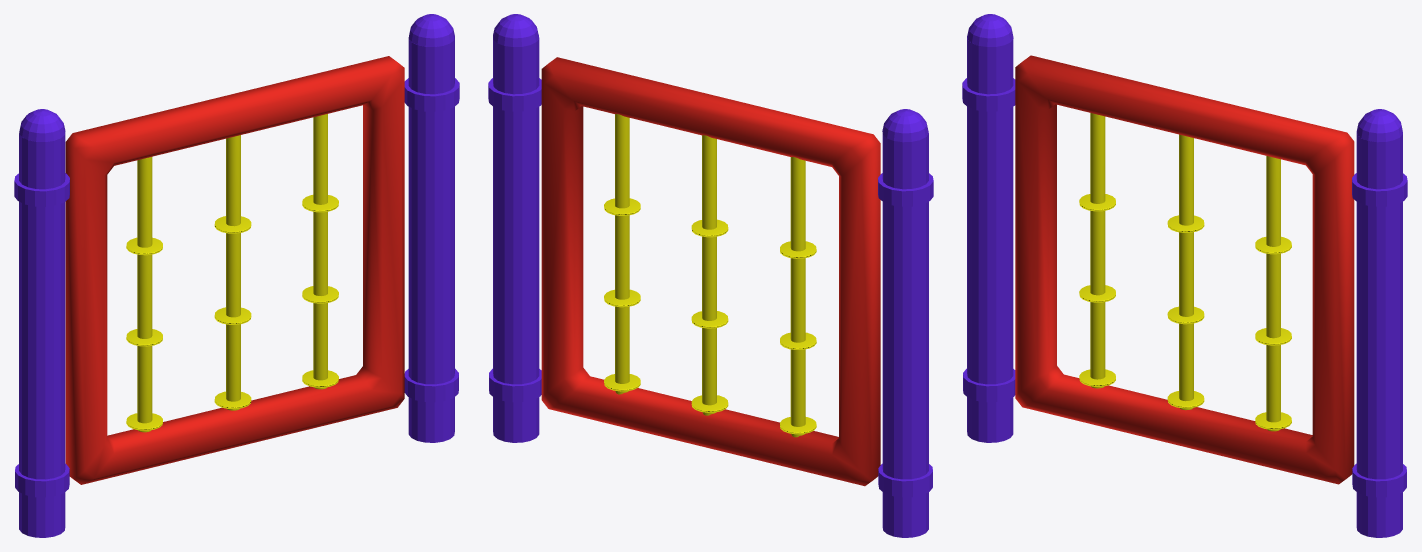
File: PPTicTacToePanel.fbx
3 renders of one model, left to right at view 1: azimuth 30°, elevation 25°; view 2: azimuth 150°, elevation 25°; view 3: azimuth 330°, elevation 25°, orthographic.
Parts seen in each view (by area): view 1: Plane, Cylinder.001, Cylinder, Cylinder.005, Cylinder.002, Cylinder.004; view 2: Plane, Cylinder, Cylinder.001, Cylinder.005, Cylinder.002, Cylinder.004; view 3: Plane, Cylinder.001, Cylinder, Cylinder.005, Cylinder.004, Cylinder.002.
Boxes of the visible parts, x1,y1,x2,y2 form: Plane: (65, 56, 404, 484); Cylinder.001: (404, 14, 459, 442); Cylinder: (14, 109, 69, 537); Cylinder.005: (137, 157, 152, 432); Cylinder.002: (226, 135, 240, 410); Cylinder.004: (313, 114, 327, 389); Plane: (541, 57, 880, 486); Cylinder: (878, 109, 933, 537); Cylinder.001: (488, 14, 541, 442); Cylinder.005: (790, 157, 805, 437); Cylinder.002: (702, 135, 716, 415); Cylinder.004: (615, 114, 629, 394); Plane: (1015, 55, 1354, 484); Cylinder.001: (1352, 109, 1407, 537); Cylinder: (962, 14, 1015, 442); Cylinder.005: (1090, 113, 1105, 388); Cylinder.004: (1266, 156, 1280, 431); Cylinder.002: (1179, 134, 1193, 410).
Size of the model in its own units: 536 by 488 by 59.59.
